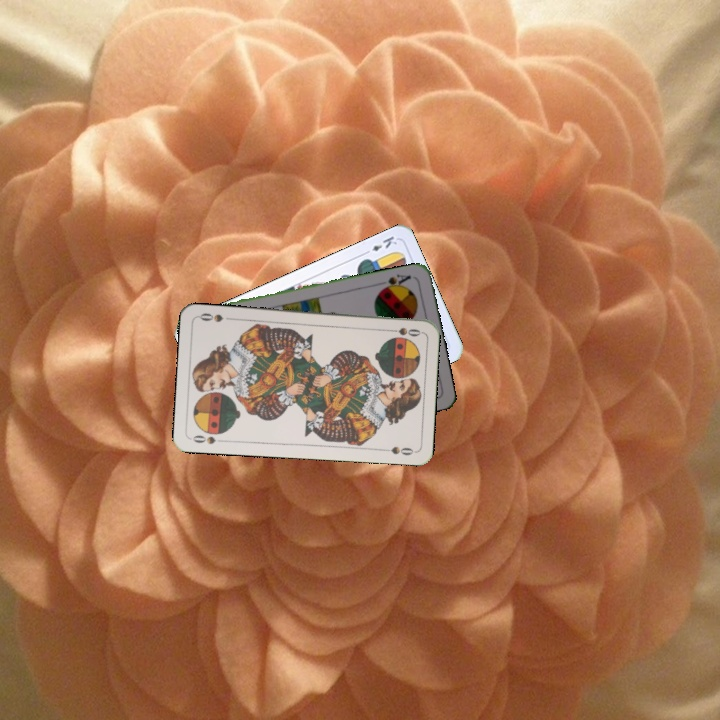EK: (360, 232, 400, 257)
SA: (375, 270, 414, 293)
SO: (189, 431, 228, 447), (383, 324, 423, 339)
